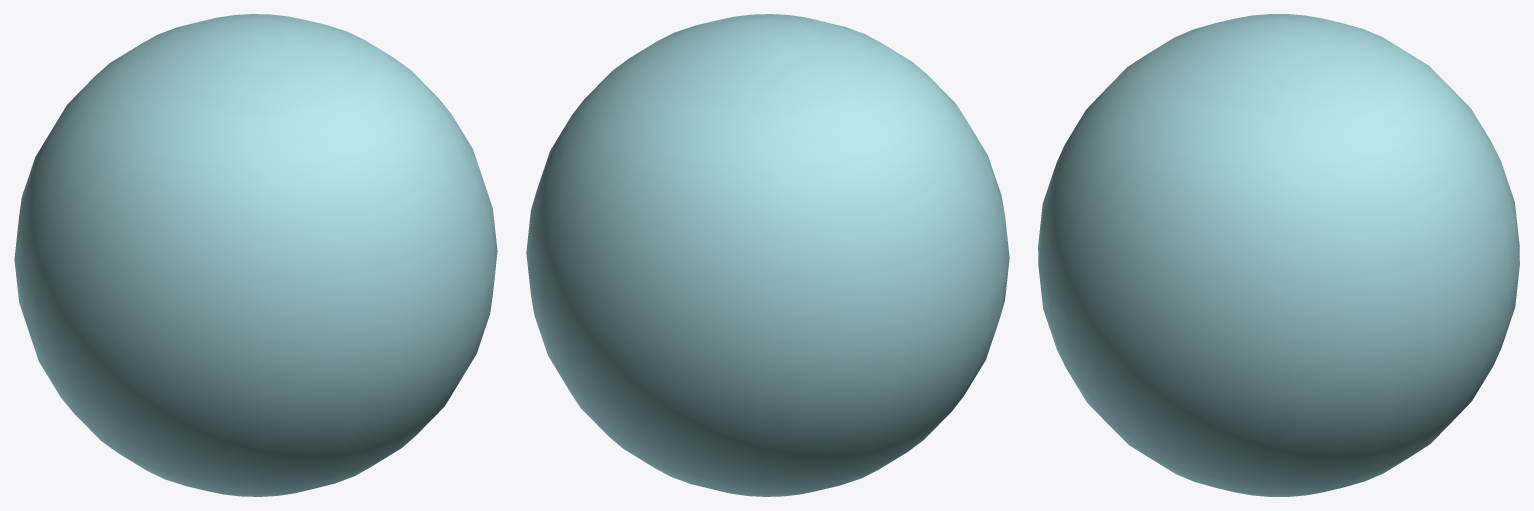
File: Uranus.glb
3 views of the same model, side by side, from view 1: azimuth 30°, elevation 25°; view 2: azimuth 150°, elevation 25°; view 3: azimuth 270°, elevation 25° (orthographic).
Parts seen in each view (by area): view 1: Uranus; view 2: Uranus; view 3: Uranus.
Part boxes in pixels (<box>): Uranus: <box>14,14,497,496</box>; Uranus: <box>526,14,1009,496</box>; Uranus: <box>1038,14,1519,496</box>.
Bounding box in the file's own units: 3.59 × 3.6 × 3.59.
Materials: 1 (1 with a texture image).
